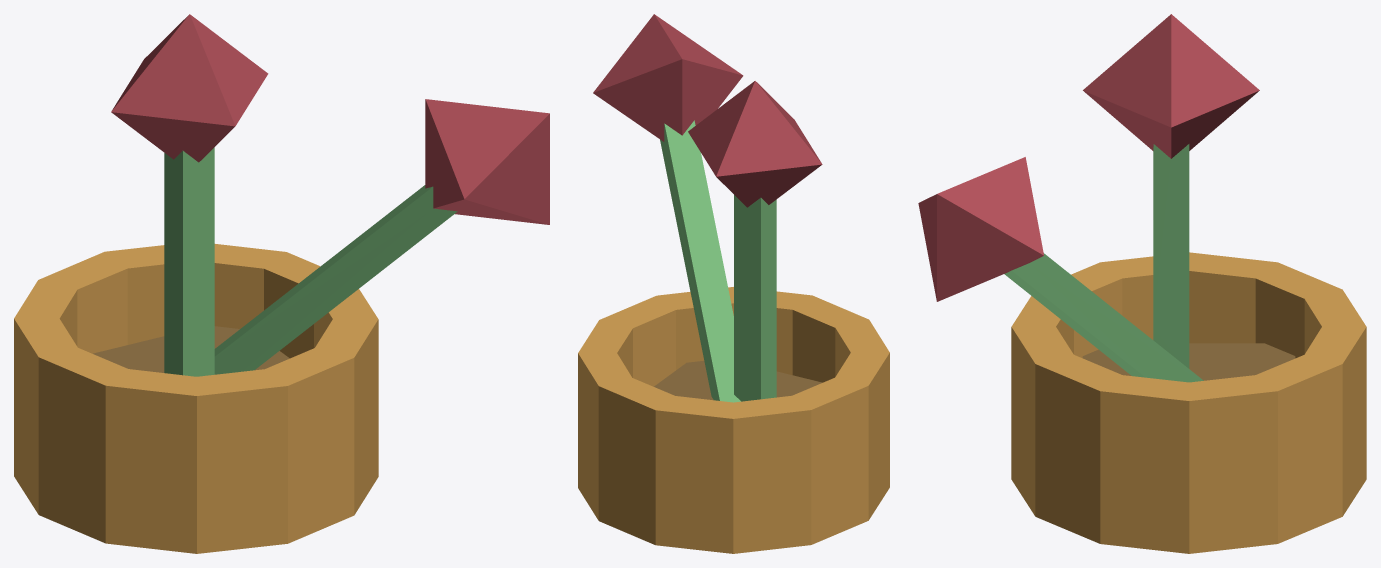
The model's file is plant_12.glb.
3 renders of one model, left to right at view 1: azimuth 30°, elevation 25°; view 2: azimuth 150°, elevation 25°; view 3: azimuth 270°, elevation 25°, orthographic. The views are drawn at different scales.
Parts seen in each view (by area): view 1: Mesh_Mesh_head_geo.001_lambert2SG.001; view 2: Mesh_Mesh_head_geo.001_lambert2SG.001; view 3: Mesh_Mesh_head_geo.001_lambert2SG.001.
Part boxes in pixels (x1=…): Mesh_Mesh_head_geo.001_lambert2SG.001: x1=14, y1=14, x2=549, y2=553; Mesh_Mesh_head_geo.001_lambert2SG.001: x1=578, y1=14, x2=889, y2=553; Mesh_Mesh_head_geo.001_lambert2SG.001: x1=918, y1=14, x2=1366, y2=553.
Bounding box in the file's own units: 1.32 × 1.5 × 1.33.
